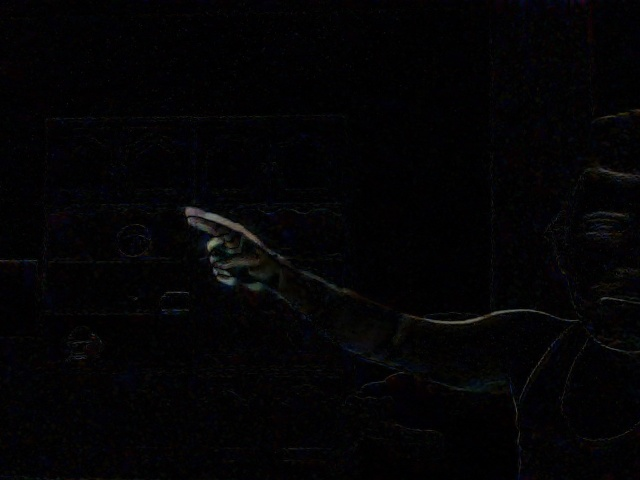hand_po: (168, 191, 283, 294)
